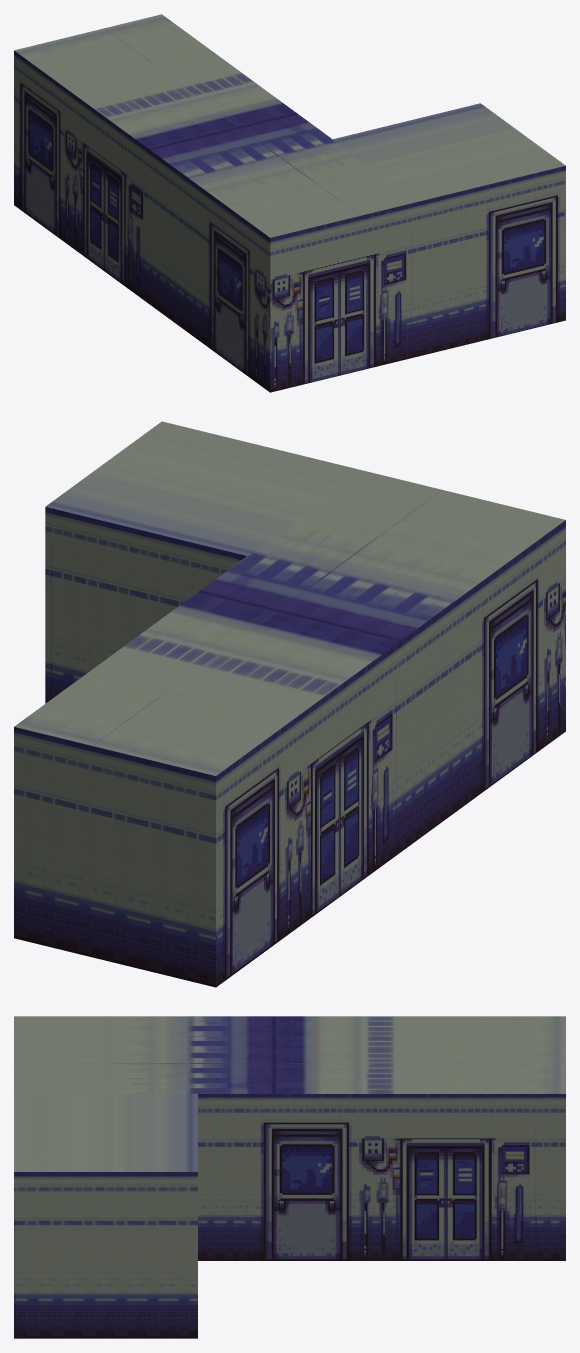
File: Lpiece.fbx
3 views of the same model, one above another, from view 1: azimuth 30°, elevation 25°; view 2: azimuth 150°, elevation 25°; view 3: azimuth 270°, elevation 25° (orthographic). The views are drawn at different scales.
Visible parts, largest first — view 1: LPiece; view 2: LPiece; view 3: LPiece.
Part boxes in pixels (x1,y1,x2,y2): LPiece: (14, 14, 565, 392); LPiece: (14, 421, 565, 987); LPiece: (14, 1016, 565, 1338).
Bounding box in the file's own units: 400 × 200 × 600.
